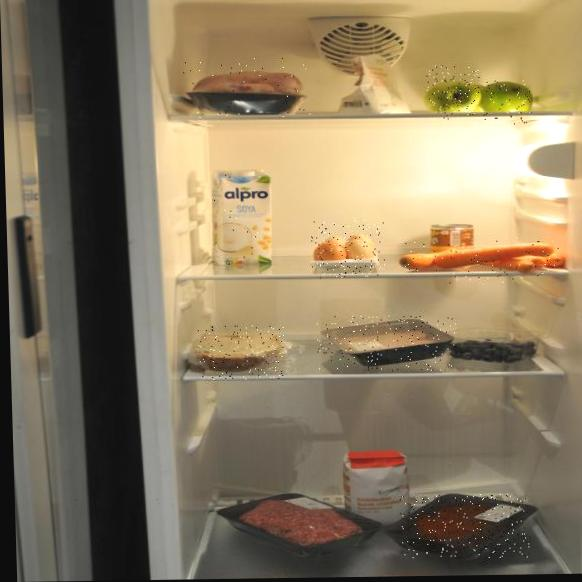apple: (426, 65, 481, 120), (483, 80, 532, 125)
bread: (197, 325, 286, 380)
carrots: (402, 237, 563, 284)
chicken: (181, 56, 311, 118)
eggs: (311, 219, 385, 278)
meat: (222, 494, 371, 559), (399, 493, 532, 559), (317, 314, 457, 372)
milk: (212, 165, 273, 266)
